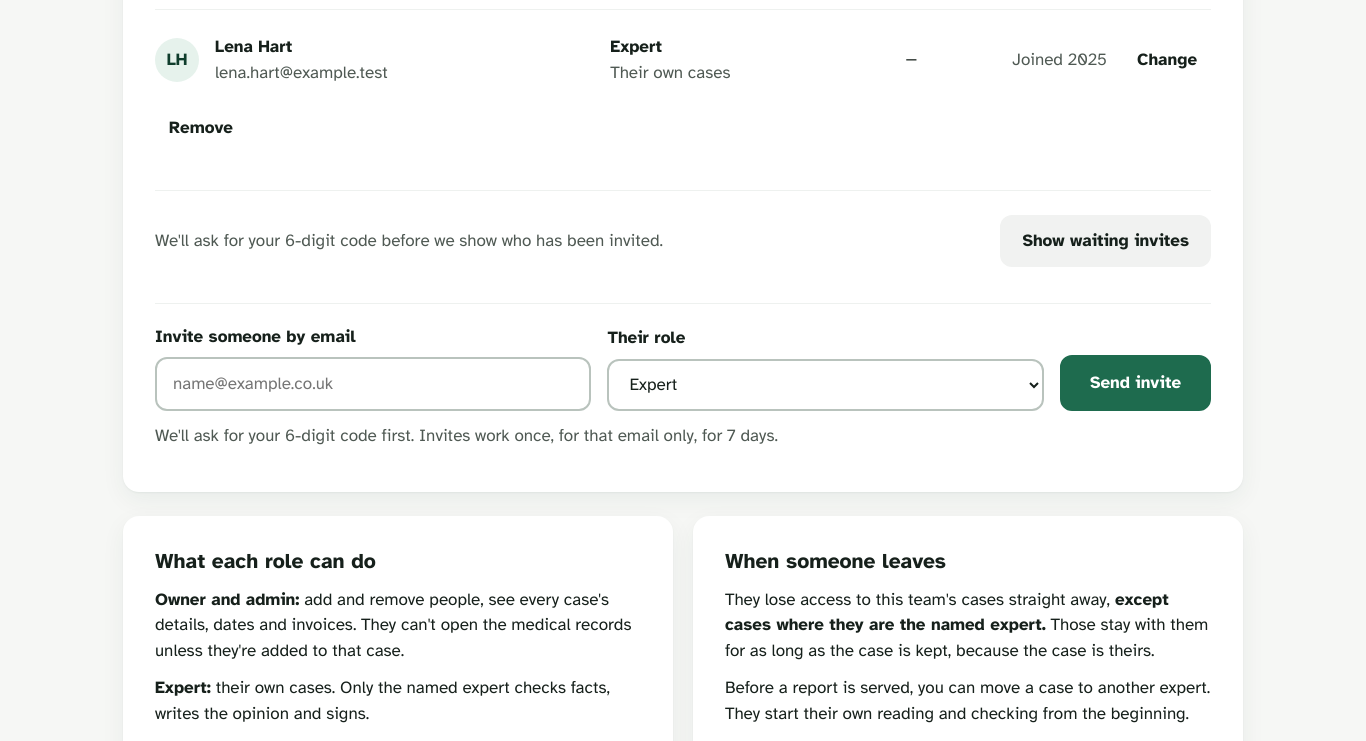
Test case: sends an invite with the chosen role
(page scrolled)
Type "new@example.test" into the field labelled "Invite someone by email" at (373, 384), box x1=155 y1=357 x2=592 y2=411
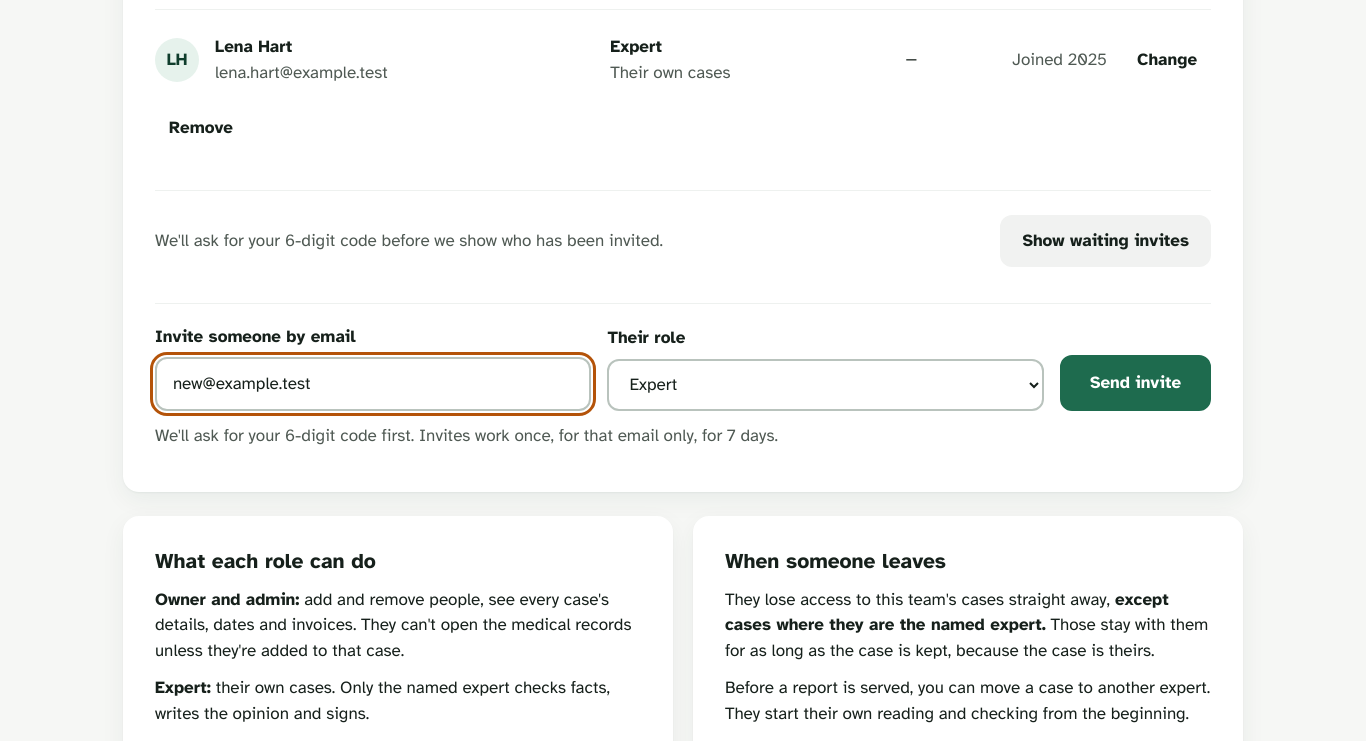
Select "Assistant" in the dropdown labelled "Their role" at (826, 385), box x1=608 y1=359 x2=1044 y2=411
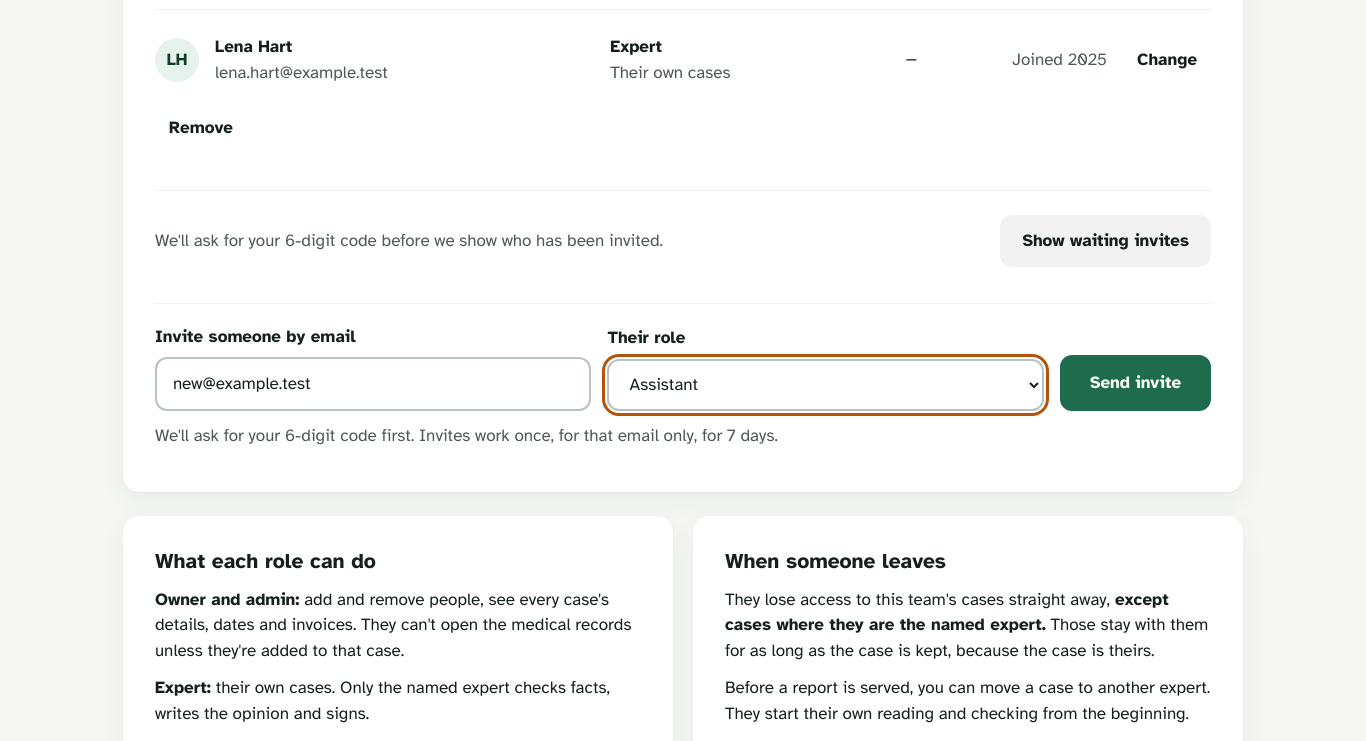
Click the button "Send invite" at (1136, 383), box x1=1060 y1=355 x2=1211 y2=411
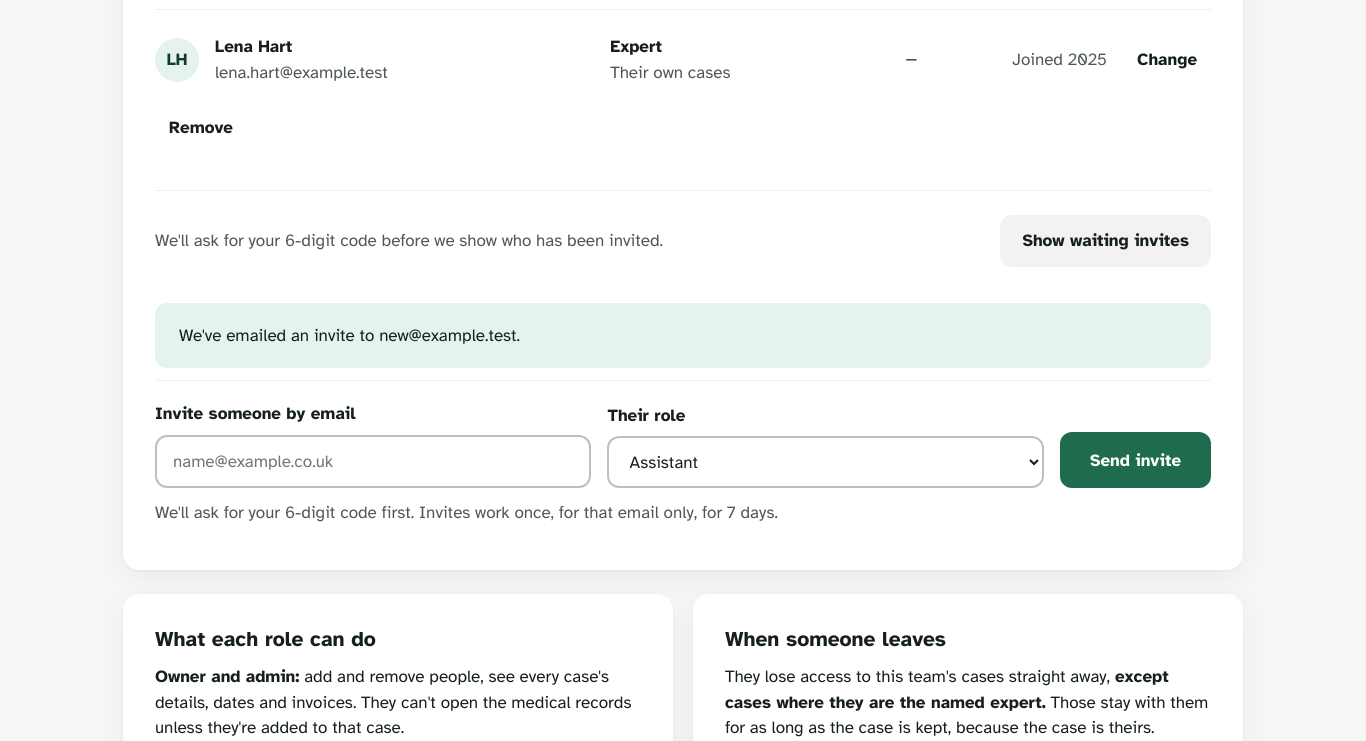
Expected: the text "We've emailed an invite to new@example.test." is shown, x1=179 y1=325 x2=520 y2=346
